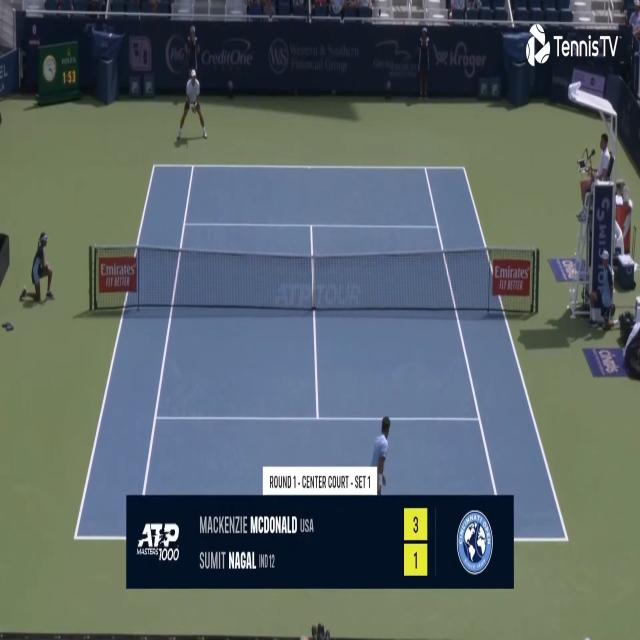tennis-player: (173, 65, 210, 148), (372, 413, 392, 495)
